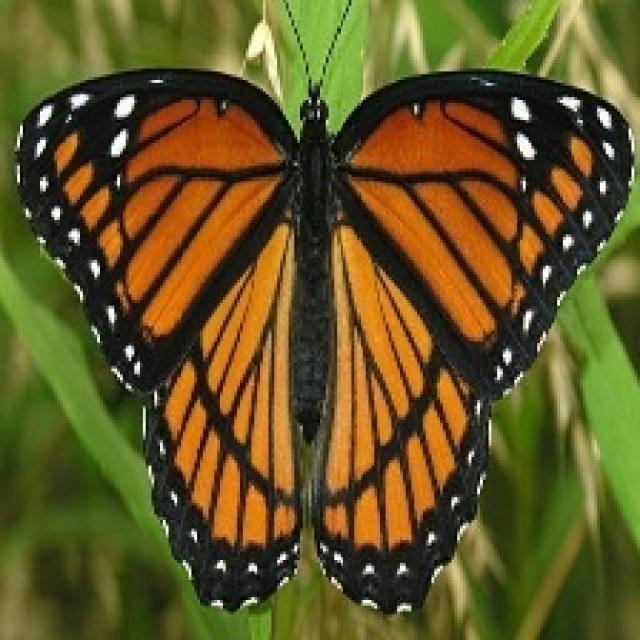butterfly: (11, 0, 634, 617)
